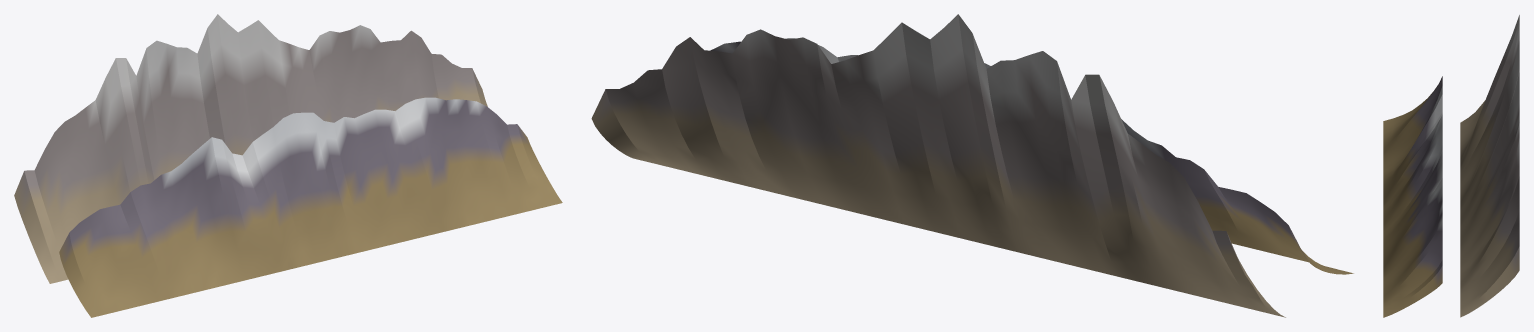
File: cordillera_backdrop.glb
3 views of the same model, side by side, from view 1: azimuth 30°, elevation 25°; view 2: azimuth 150°, elevation 25°; view 3: azimuth 270°, elevation 25° (orthographic). The views are drawn at different scales.
Parts seen in each view (by area): view 1: cordillera_backdrop_mesh; view 2: cordillera_backdrop_mesh; view 3: cordillera_backdrop_mesh.
Boxes of the visible parts, x1=… form: cordillera_backdrop_mesh: x1=14, y1=14, x2=562, y2=317; cordillera_backdrop_mesh: x1=591, y1=14, x2=1353, y2=317; cordillera_backdrop_mesh: x1=1383, y1=15, x2=1519, y2=317.
Size of the model in its own units: 78.52 by 31.08 by 23.
